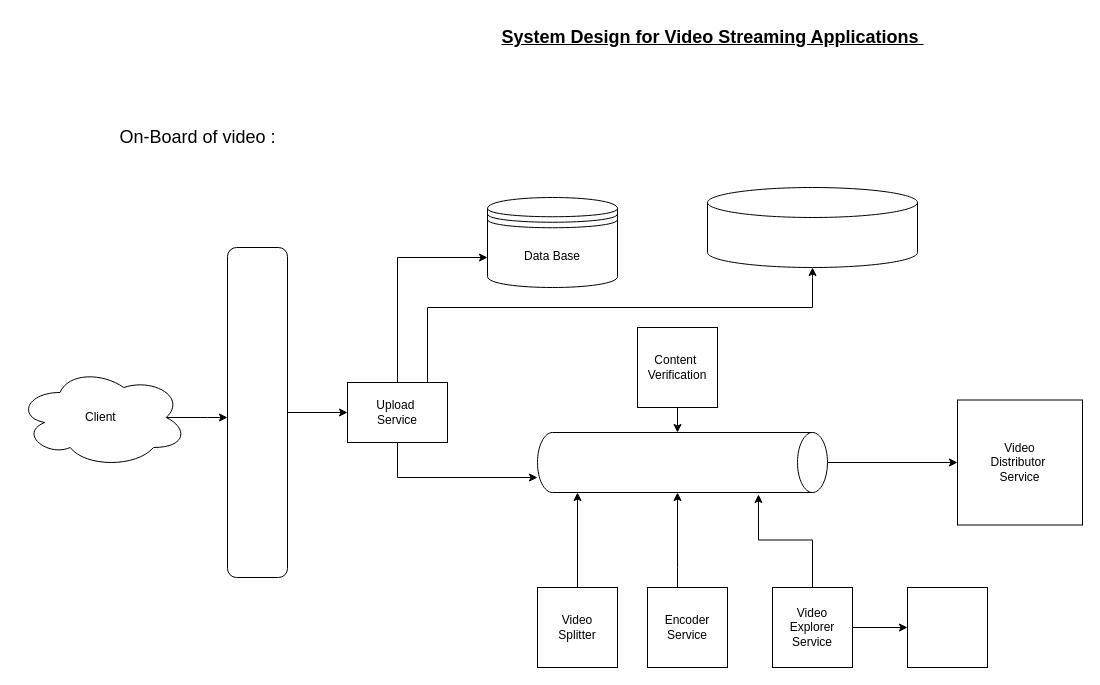
The diagram is 1100 pixels wide and 685 high, and some of its shapes have lost their labels. The centre of each missing label's shape, as x and y in pixels:
Distributed Queue: point 682,462
Distributed Storage: point 812,227
Elastic Service: point 947,627
Load Balancer: point 257,412
